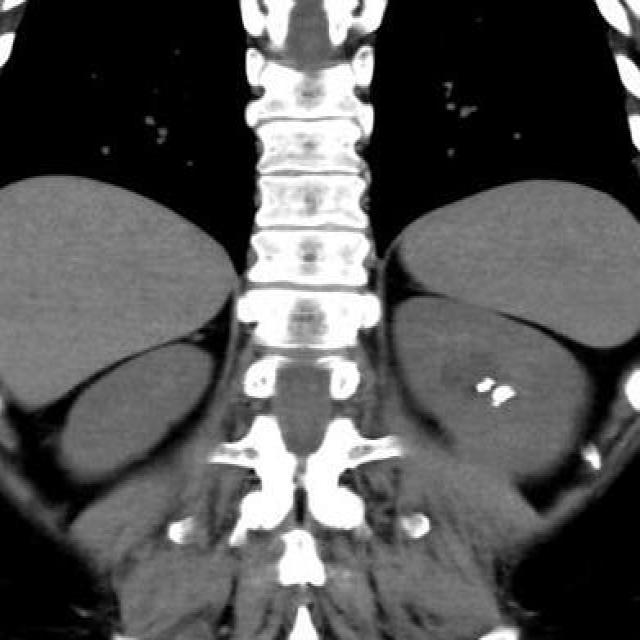Tas_Var: (490, 383, 518, 403), (474, 381, 492, 393), (484, 375, 496, 387), (490, 399, 500, 409)
